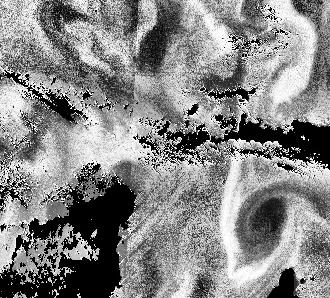CE: (222, 182, 300, 267)
